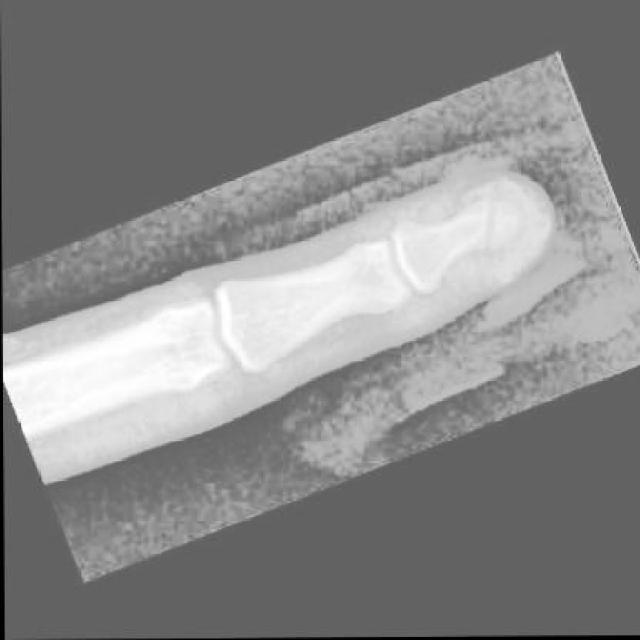Fracture: (458, 172, 550, 265)
